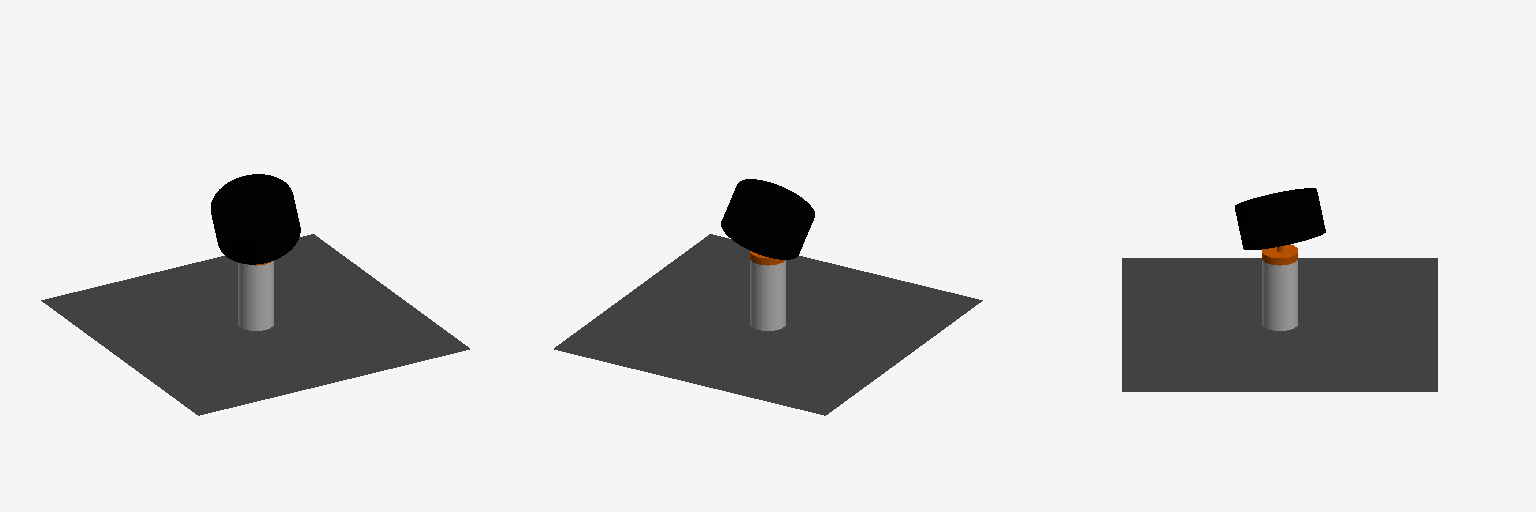
File: lamp12.obj
The picture shows the model from 3 angles: view 1: azimuth 30°, elevation 25°; view 2: azimuth 150°, elevation 25°; view 3: azimuth 270°, elevation 25°; orthographic projection.
Parts seen in each view (by area): view 1: Plane, Cylinder.002, Cylinder; view 2: Plane, Cylinder.002, Cylinder; view 3: Plane, Cylinder.002, Cylinder, Cylinder.001.
Part boxes in pixels (bbox=[...]): Plane: bbox=[41, 234, 469, 415]; Cylinder.002: bbox=[211, 174, 300, 264]; Cylinder: bbox=[238, 261, 273, 330]; Plane: bbox=[554, 234, 982, 415]; Cylinder.002: bbox=[721, 179, 814, 259]; Cylinder: bbox=[750, 260, 785, 330]; Plane: bbox=[1122, 258, 1437, 391]; Cylinder.002: bbox=[1235, 188, 1325, 249]; Cylinder: bbox=[1262, 260, 1297, 330]; Cylinder.001: bbox=[1262, 244, 1297, 265].
Size of the model in its own units: 17.18 by 8.29 by 17.18.